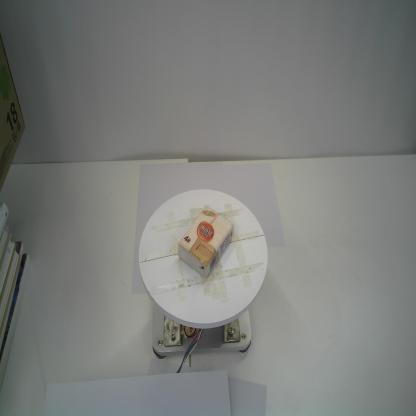Tissue: (178, 206, 234, 277)
